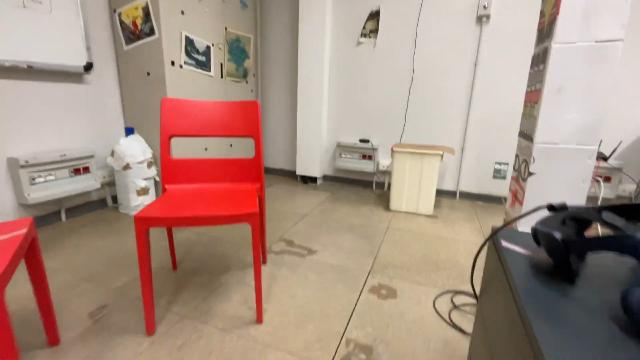Chair: (126, 94, 276, 342), (0, 212, 66, 360)
